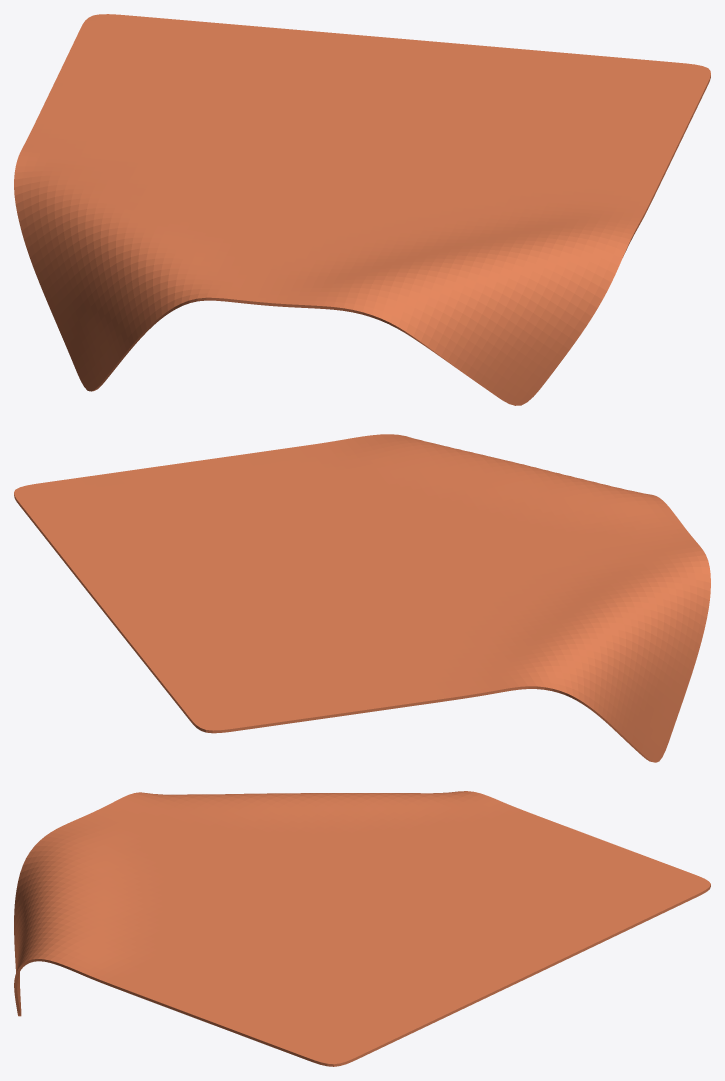
File: mantel.fbx
3 views of the same model, one above another, from view 1: azimuth 30°, elevation 25°; view 2: azimuth 150°, elevation 25°; view 3: azimuth 270°, elevation 25° (orthographic). The views are drawn at different scales.
Parts seen in each view (by area): view 1: Plane.003; view 2: Plane.003; view 3: Plane.003.
Boxes of the visible parts, x1,y1,x2,y2 form: Plane.003: [14, 14, 710, 405]; Plane.003: [14, 434, 710, 762]; Plane.003: [14, 791, 710, 1066].
Size of the model in its own units: 278 by 61.65 by 271.
